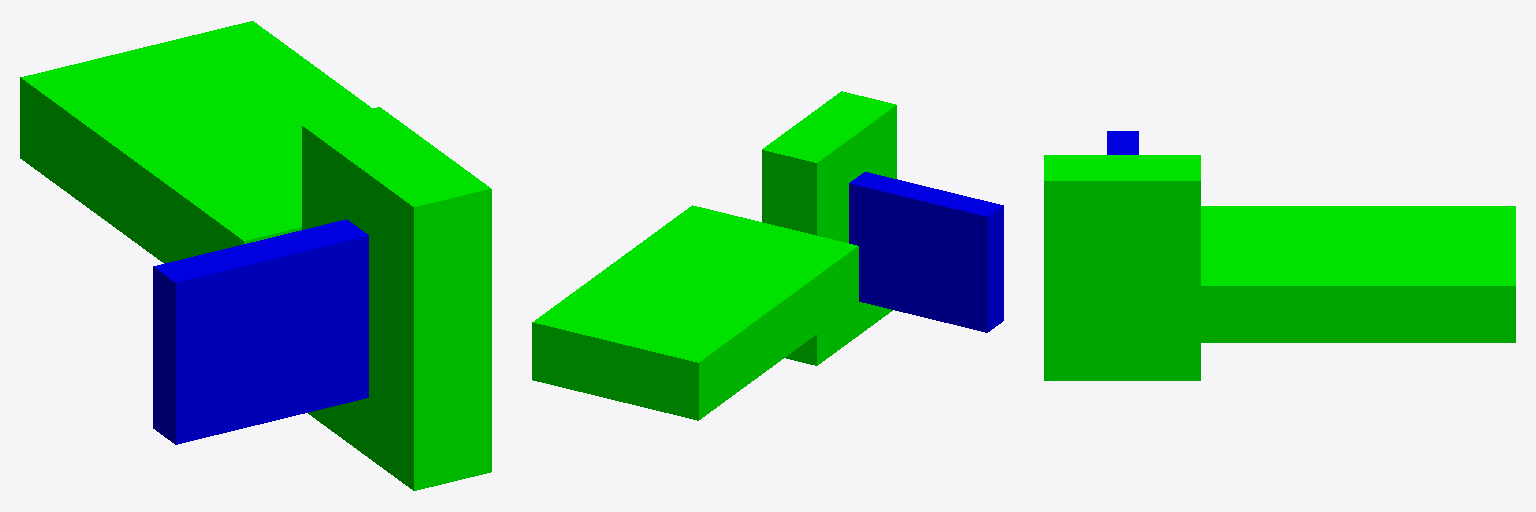
URDF robot description (robot):
<robot name = "robot">
    <link name="root">
        <inertial>
            <origin xyz="0.0 0.0 1.5" rpy="0 0 0"/>
            <mass value="1" />
            <inertia ixx="100" ixy="0" ixz="0" iyy="100" iyz="0" izz="100" />
        </inertial>
        <visual>
            <origin xyz="0.0 0.0 1.5" rpy="0 0 0"/>
            <geometry>
                <box size="0 0 0.0001" />
            </geometry>
            <material name="Green">
                <color rgba="0 1.0 0.0 1.0"/>
            </material>
        </visual>
        <collision>
            <origin xyz="0.0 0.0 1.5" rpy="0 0 0"/>
            <geometry>
                <box size="0 0 0.0001" />
            </geometry>
        </collision>
    </link>
    <joint name="root_000" type="revolute">
       <parent link="root"/>
       <child  link="000"/>
       <origin rpy="0 0 0" xyz="0.0 0.0 1.5" />
     <axis xyz="1 0 0"/>
       <limit effort="0.0" lower="-3.14159" upper="3.14159" velocity="0.0"/>
    </joint>
    <link name="000">
        <inertial>
            <origin xyz="0.0 0.05 0.0" rpy="0 0 0"/>
            <mass value="1" />
            <inertia ixx="100" ixy="0" ixz="0" iyy="100" iyz="0" izz="100" />
        </inertial>
        <visual>
            <origin xyz="0.0 0.05 0.0" rpy="0 0 0"/>
            <geometry>
                <box size="0.5 0.1 0.4" />
            </geometry>
            <material name="Blue">
                <color rgba="0 0.0 1.0 1.0"/>
            </material>
        </visual>
        <collision>
            <origin xyz="0.0 0.05 0.0" rpy="0 0 0"/>
            <geometry>
                <box size="0.5 0.1 0.4" />
            </geometry>
        </collision>
    </link>
    <joint name="000_000-100" type="revolute">
       <parent link="000"/>
       <child  link="000-100"/>
       <origin rpy="0 0 0" xyz="0.25 0.05 -0.0" />
     <axis xyz="1 0 0"/>
       <limit effort="0.0" lower="-3.14159" upper="3.14159" velocity="0.0"/>
    </joint>
    <link name="000-100">
        <inertial>
            <origin xyz="0.05 0.0 -0.0" rpy="0 0 0"/>
            <mass value="1" />
            <inertia ixx="100" ixy="0" ixz="0" iyy="100" iyz="0" izz="100" />
        </inertial>
        <visual>
            <origin xyz="0.05 0.0 -0.0" rpy="0 0 0"/>
            <geometry>
                <box size="0.1 0.5 0.7" />
            </geometry>
            <material name="Green">
                <color rgba="0 1.0 0.0 1.0"/>
            </material>
        </visual>
        <collision>
            <origin xyz="0.05 0.0 -0.0" rpy="0 0 0"/>
            <geometry>
                <box size="0.1 0.5 0.7" />
            </geometry>
        </collision>
    </link>
    <joint name="000-100_000-110" type="revolute">
       <parent link="000-100"/>
       <child  link="000-110"/>
       <origin rpy="0 0 0" xyz="0.1 0.0 -0.0" />
     <axis xyz="1 0 0"/>
       <limit effort="0.0" lower="-3.14159" upper="3.14159" velocity="0.0"/>
    </joint>
    <link name="000-110">
        <inertial>
            <origin xyz="0.05 0.0 -0.0" rpy="0 0 0"/>
            <mass value="1" />
            <inertia ixx="100" ixy="0" ixz="0" iyy="100" iyz="0" izz="100" />
        </inertial>
        <visual>
            <origin xyz="0.05 0.0 -0.0" rpy="0 0 0"/>
            <geometry>
                <box size="0.1 0.5 0.7" />
            </geometry>
            <material name="Green">
                <color rgba="0 1.0 0.0 1.0"/>
            </material>
        </visual>
        <collision>
            <origin xyz="0.05 0.0 -0.0" rpy="0 0 0"/>
            <geometry>
                <box size="0.1 0.5 0.7" />
            </geometry>
        </collision>
    </link>
    <joint name="000-110_000-110-200" type="revolute">
       <parent link="000-110"/>
       <child  link="000-110-200"/>
       <origin rpy="0 0 0" xyz="0.05 0.25 -0.0" />
     <axis xyz="0 1 0"/>
       <limit effort="0.0" lower="-3.14159" upper="3.14159" velocity="0.0"/>
    </joint>
    <link name="000-110-200">
        <inertial>
            <origin xyz="0.0 0.25 -0.0" rpy="0 0 0"/>
            <mass value="1" />
            <inertia ixx="100" ixy="0" ixz="0" iyy="100" iyz="0" izz="100" />
        </inertial>
        <visual>
            <origin xyz="0.0 0.25 -0.0" rpy="0 0 0"/>
            <geometry>
                <box size="0.6 0.5 0.2" />
            </geometry>
            <material name="Green">
                <color rgba="0 1.0 0.0 1.0"/>
            </material>
        </visual>
        <collision>
            <origin xyz="0.0 0.25 -0.0" rpy="0 0 0"/>
            <geometry>
                <box size="0.6 0.5 0.2" />
            </geometry>
        </collision>
    </link>
    <joint name="000-110-200_000-110-210" type="revolute">
       <parent link="000-110-200"/>
       <child  link="000-110-210"/>
       <origin rpy="0 0 0" xyz="0.0 0.5 -0.0" />
     <axis xyz="0 1 0"/>
       <limit effort="0.0" lower="-3.14159" upper="3.14159" velocity="0.0"/>
    </joint>
    <link name="000-110-210">
        <inertial>
            <origin xyz="0.0 0.25 -0.0" rpy="0 0 0"/>
            <mass value="1" />
            <inertia ixx="100" ixy="0" ixz="0" iyy="100" iyz="0" izz="100" />
        </inertial>
        <visual>
            <origin xyz="0.0 0.25 -0.0" rpy="0 0 0"/>
            <geometry>
                <box size="0.6 0.5 0.2" />
            </geometry>
            <material name="Green">
                <color rgba="0 1.0 0.0 1.0"/>
            </material>
        </visual>
        <collision>
            <origin xyz="0.0 0.25 -0.0" rpy="0 0 0"/>
            <geometry>
                <box size="0.6 0.5 0.2" />
            </geometry>
        </collision>
    </link>
</robot>

--- Render facts (derived) ---
3 views of the same robot in one strip: view 1: azimuth 30°, elevation 25°; view 2: azimuth 150°, elevation 25°; view 3: azimuth 270°, elevation 25° (orthographic).
Model robot with 6 links and 5 joints (5 revolute), rooted at root, posed all joints at 0.
Links seen in each view (by area): view 1: [phone redacted] (×2), 000, 000-100, 000-110; view 2: [phone redacted] (×2), 000, 000-100, 000-110; view 3: [phone redacted] (×2), 000-110, 000-100, 000.
Link boxes in pixels (x1=…): [phone redacted] (×2): x1=20, y1=21, x2=371, y2=263; 000: x1=153, y1=219, x2=368, y2=444; 000-100: x1=302, y1=116, x2=452, y2=490; 000-110: x1=341, y1=107, x2=491, y2=481; [phone redacted] (×2): x1=532, y1=205, x2=858, y2=420; 000: x1=849, y1=172, x2=1003, y2=332; 000-100: x1=789, y1=98, x2=896, y2=365; 000-110: x1=762, y1=91, x2=868, y2=358; [phone redacted] (×2): x1=1201, y1=206, x2=1515, y2=342; 000-110: x1=1044, y1=168, x2=1200, y2=380; 000-100: x1=1044, y1=155, x2=1200, y2=167; 000: x1=1107, y1=131, x2=1138, y2=154.
Size in the robot's own frame: 0.95 by 1.5 by 0.7 metres.
Geometry: primitives only (box / cylinder / sphere), no mesh files.
